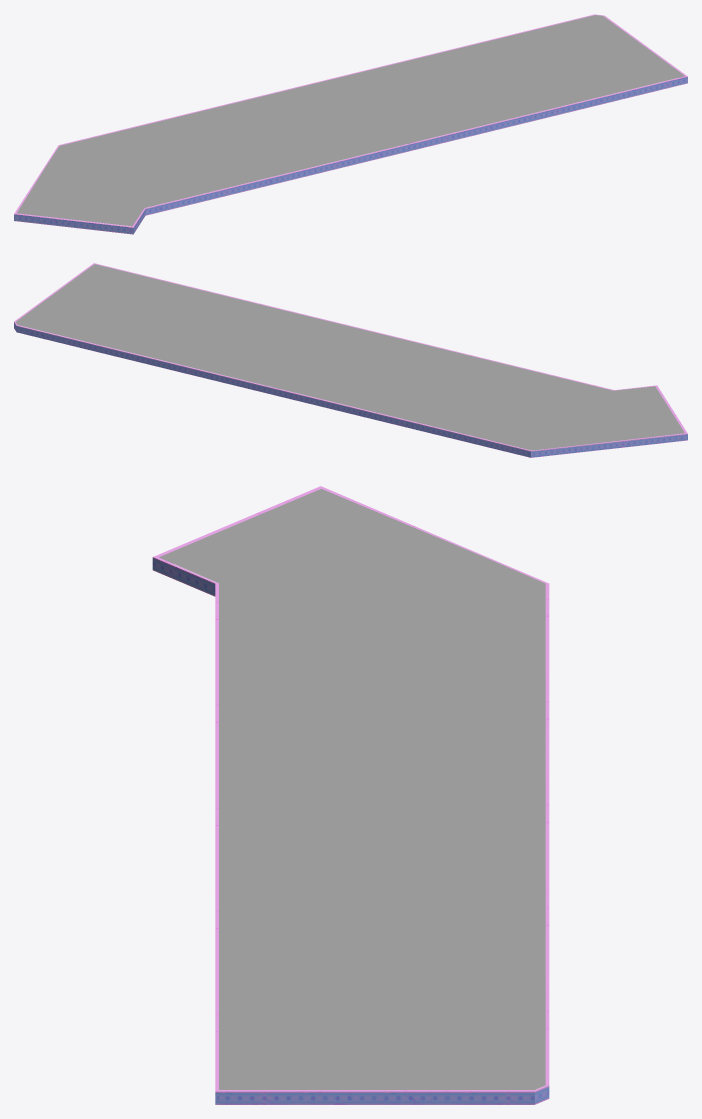
The model's file is FacilityLower_02_SM_Low.fbx.
3 renders of one model, top to bottom at view 1: azimuth 30°, elevation 25°; view 2: azimuth 150°, elevation 25°; view 3: azimuth 270°, elevation 25°, orthographic. The views are drawn at different scales.
Parts seen in each view (by area): view 1: GratedFloor, FloorSide; view 2: GratedFloor, FloorSide; view 3: GratedFloor, FloorSide.
Part boxes in pixels (x1,y1,x2,y2): GratedFloor: (17,15,684,226); FloorSide: (14,14,687,234); GratedFloor: (16,264,684,450); FloorSide: (14,263,687,457); GratedFloor: (159,489,545,1089); FloorSide: (152,486,549,1104).
Size of the model in its own units: 1715 by 17.66 by 475.
2 materials, 1 textured.
